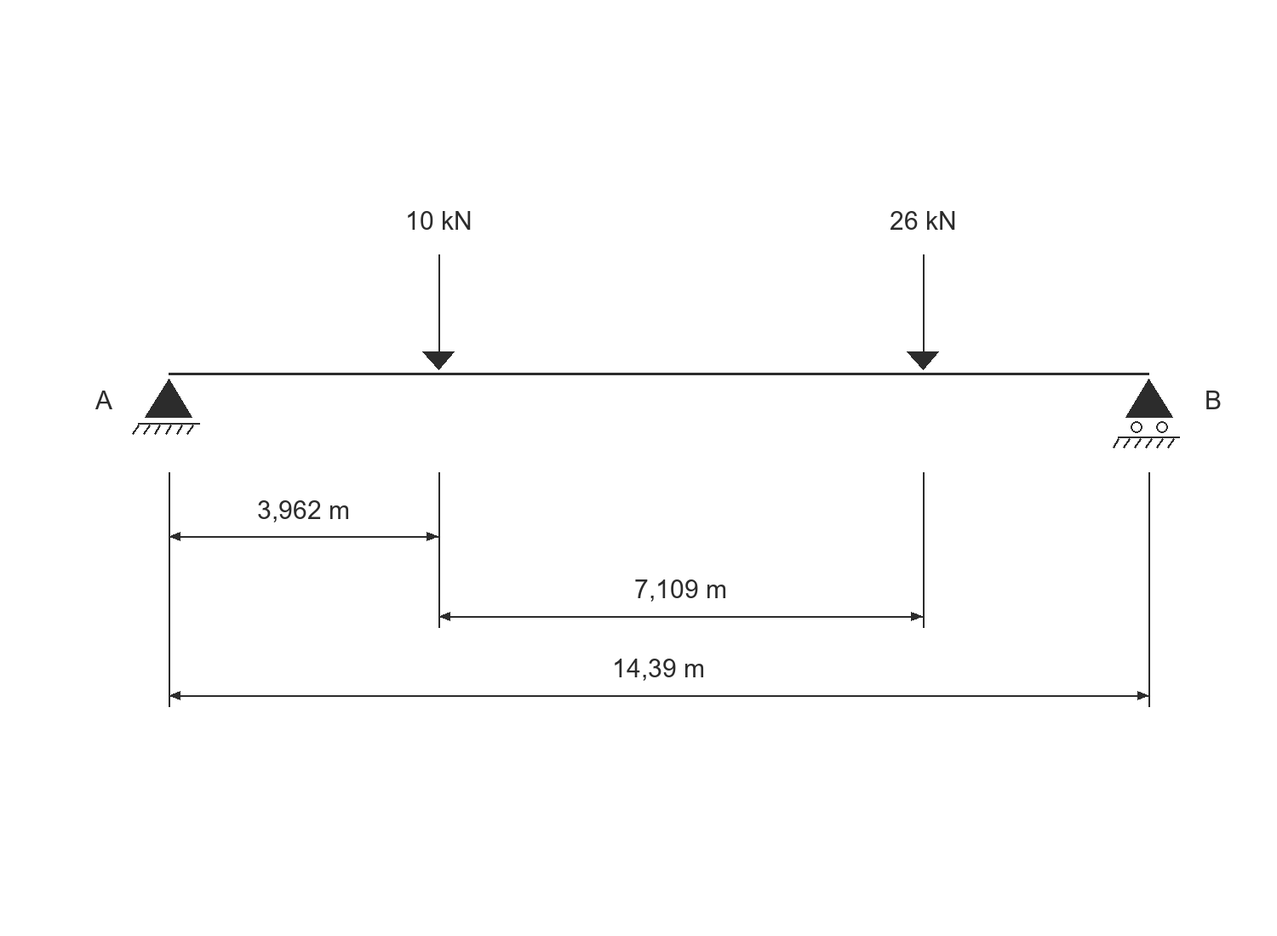pin_support: (132, 379, 200, 435)
point_load: (422, 254, 455, 370), (907, 254, 939, 370)
roller_support: (1113, 379, 1180, 448)
